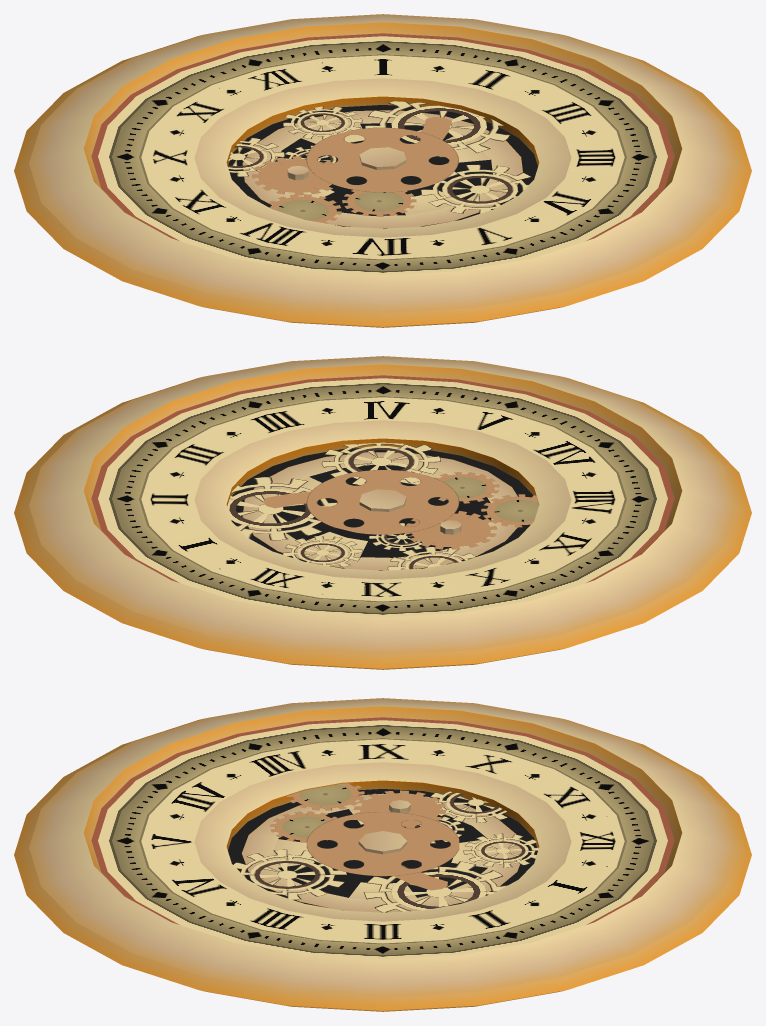
Rendered from Zafkiel.fbx.
The picture shows the model from 3 angles, top to bottom: view 1: azimuth 30°, elevation 25°; view 2: azimuth 150°, elevation 25°; view 3: azimuth 270°, elevation 25°; orthographic projection.
Parts seen in each view (by area): view 1: Zafkiel01, Zafkiel02; view 2: Zafkiel01, Zafkiel02; view 3: Zafkiel01, Zafkiel02.
Part boxes in pixels (<box>): Zafkiel01: <box>14,14,751,327</box>; Zafkiel02: <box>227,101,531,213</box>; Zafkiel01: <box>14,356,751,669</box>; Zafkiel02: <box>227,442,475,570</box>; Zafkiel01: <box>14,698,751,1011</box>; Zafkiel02: <box>233,791,538,912</box>.
Size of the model in its own units: 2.36 by 0.156 by 2.36.
